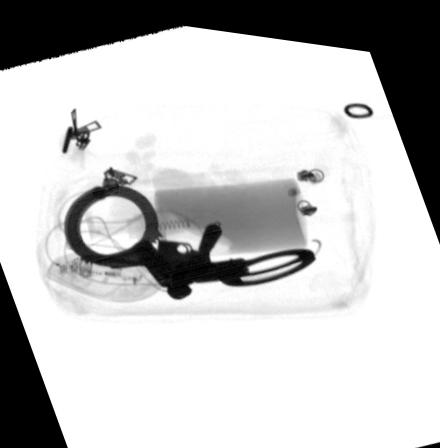Gun: (103, 216, 225, 263)
HandCuffs: (64, 181, 317, 294)
